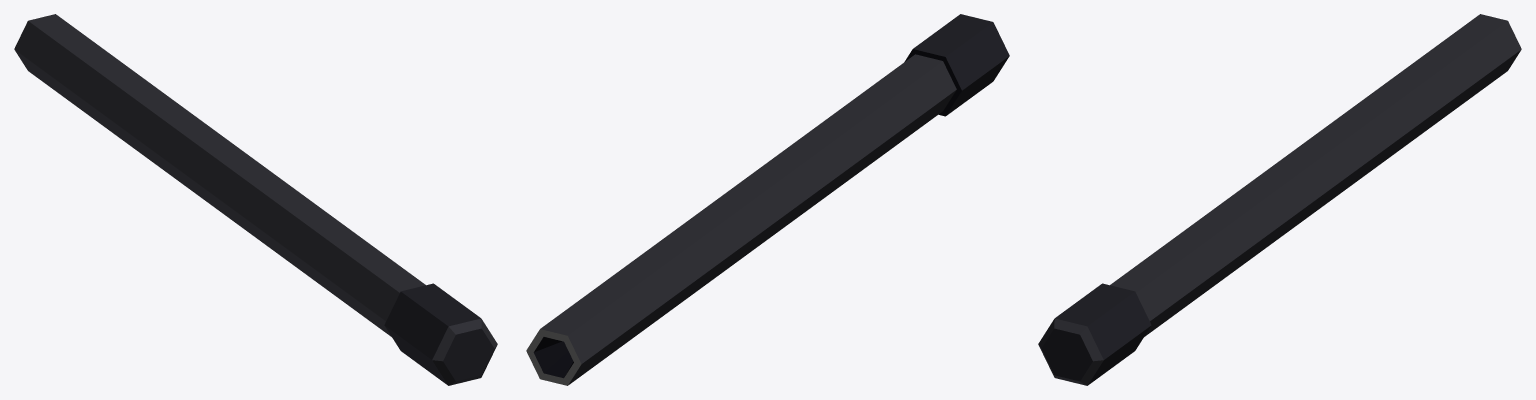
File: MW1_Magazine_12ga_6Shell.fbx
The picture shows the model from 3 angles, left to right: view 1: azimuth 30°, elevation 25°; view 2: azimuth 150°, elevation 25°; view 3: azimuth 330°, elevation 25°; orthographic projection.
Visible parts, largest first — view 1: Magazine_12ga_6Shell; view 2: Magazine_12ga_6Shell; view 3: Magazine_12ga_6Shell.
Part boxes in pixels (bbox=[...]): Magazine_12ga_6Shell: bbox=[14, 14, 497, 385]; Magazine_12ga_6Shell: bbox=[526, 14, 1009, 385]; Magazine_12ga_6Shell: bbox=[1038, 14, 1521, 385].
Size of the model in its own units: 3.05 by 2.64 by 34.35.
